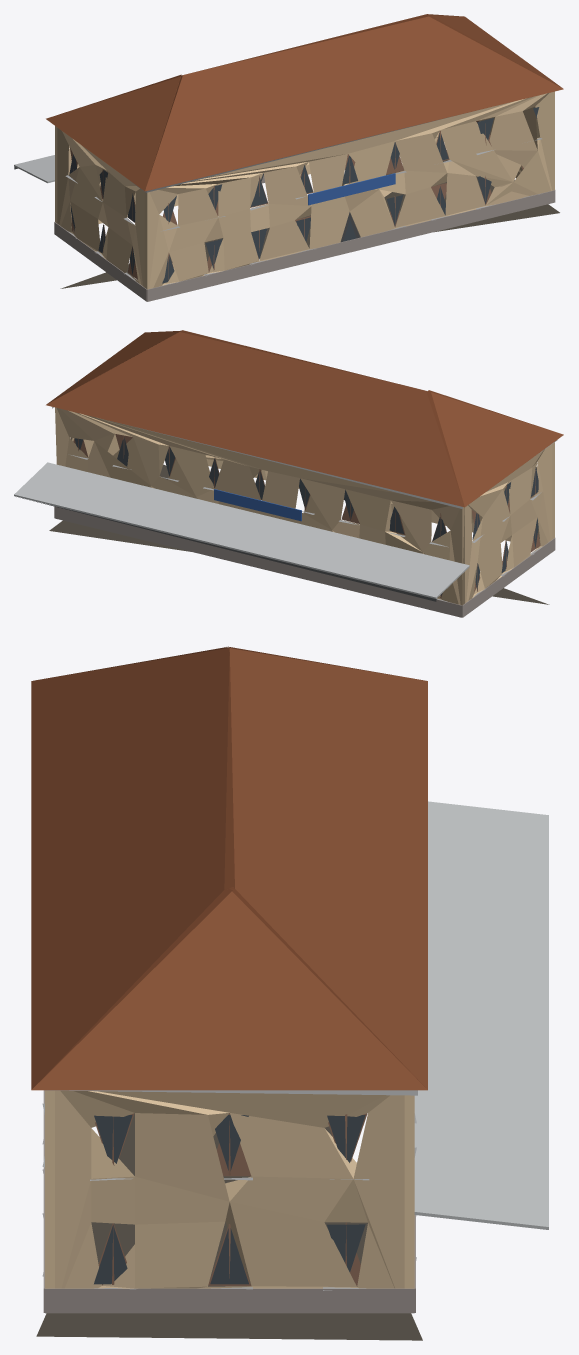
File: station-lod1.glb
3 renders of one model, top to bottom at view 1: azimuth 30°, elevation 25°; view 2: azimuth 150°, elevation 25°; view 3: azimuth 270°, elevation 25°, orthographic. The views are drawn at different scales.
Parts seen in each view (by area): view 1: station-plaster0.001; view 2: station-plaster0.001; view 3: station-plaster0.001.
Part boxes in pixels (x1,y1,x2,y2): station-plaster0.001: (14,14,563,301); station-plaster0.001: (14,330,563,617); station-plaster0.001: (31,646,548,1340).
Size of the model in its own units: 31.37 by 12.18 by 15.44.
